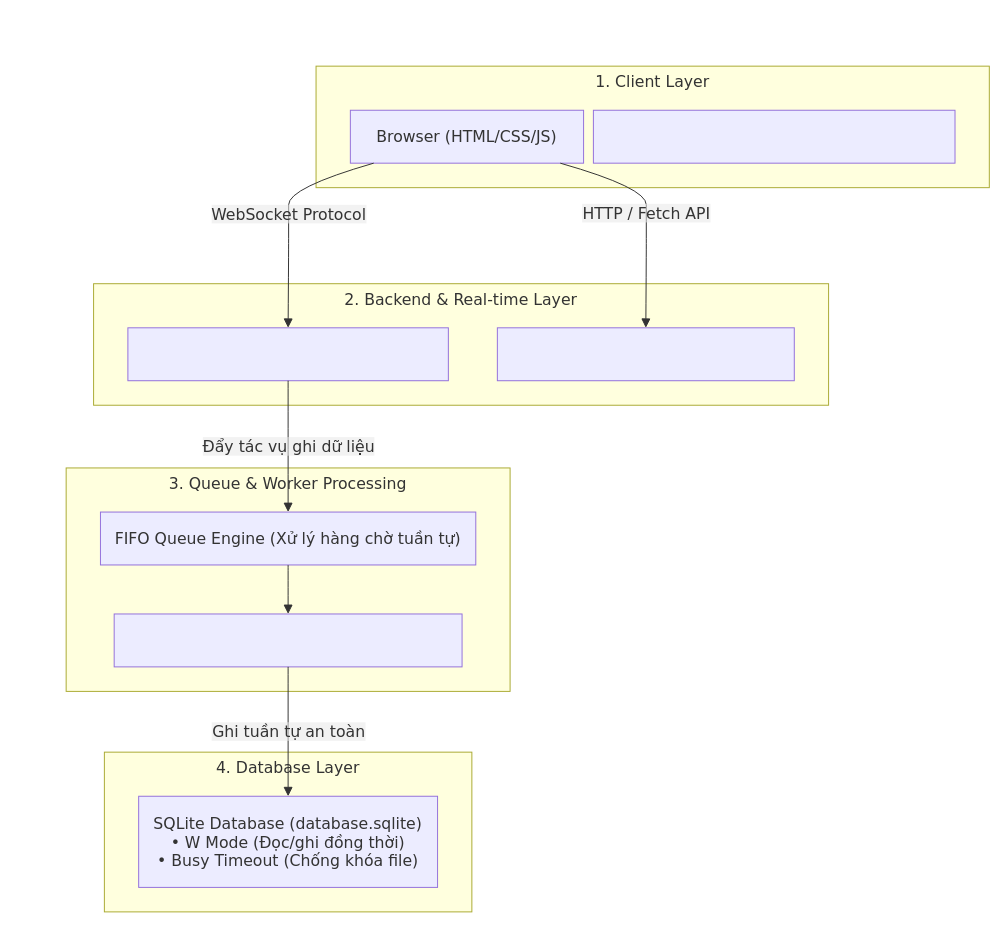
Image size: 1006x929. Some labels were removed from this diagram. The shapes that lost their labels are listed below. From the top down, each one's centre as x and y in pixels, then its label:
the point at 773,136: PWA (Service Worker & IndexedDB Offline)
the point at 287,354: WebSocket Server (Ratchet / Pusher)
the point at 645,354: PHP Backend Router / Controllers
the point at 287,640: Background Worker (Tiến trình xử lý đơn)
